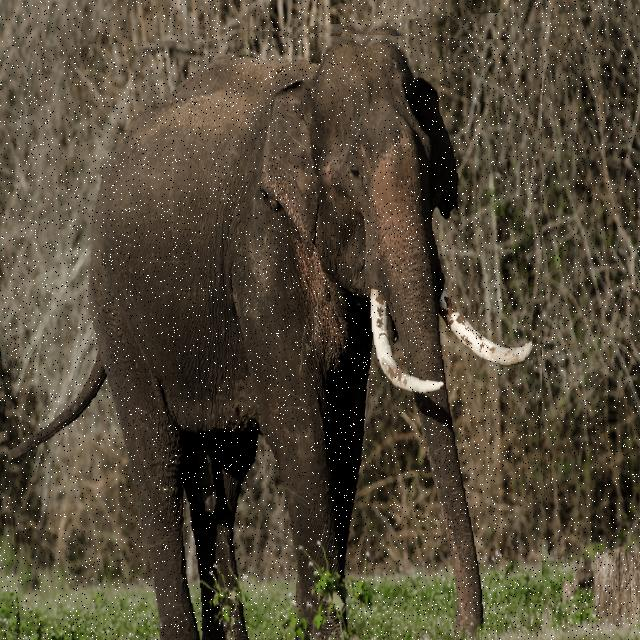elephant: (0, 21, 542, 640)
